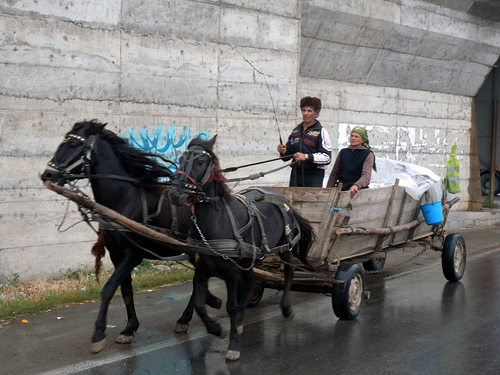horse: (37, 113, 229, 352), (165, 128, 318, 366)
